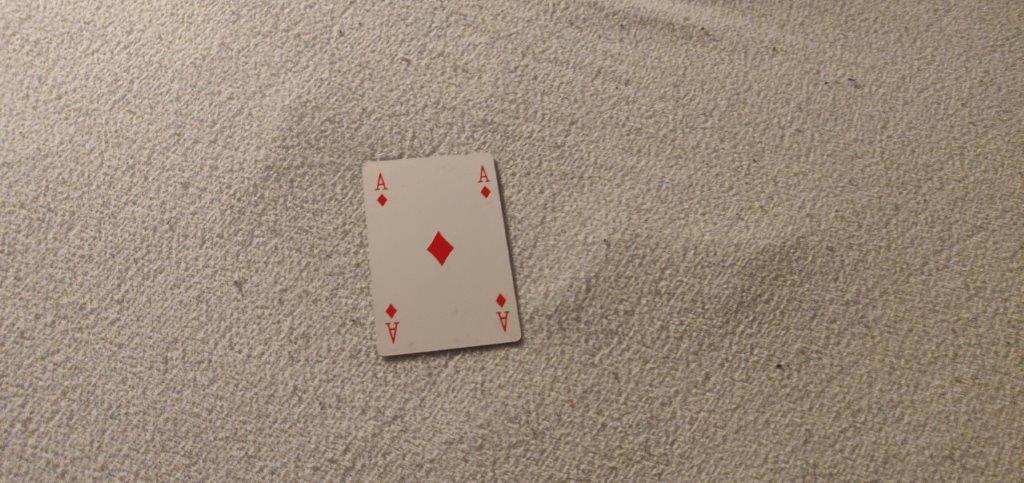AD: (371, 166, 392, 213), (473, 163, 495, 200)
